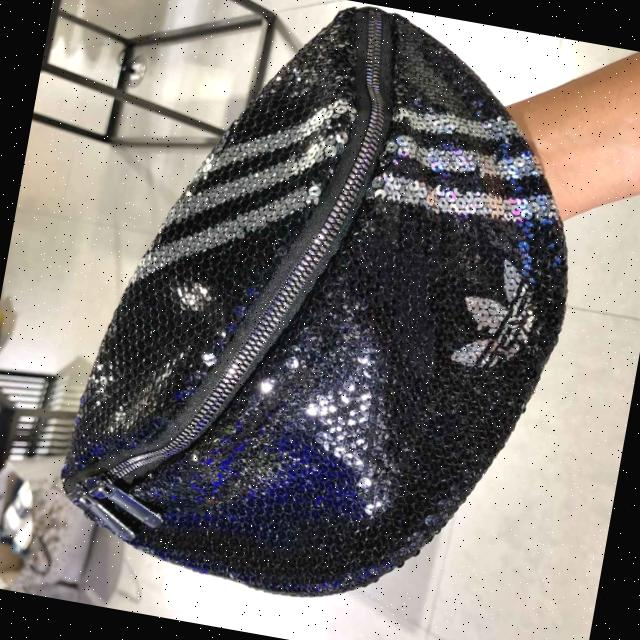Handbag: (26, 0, 615, 640)
